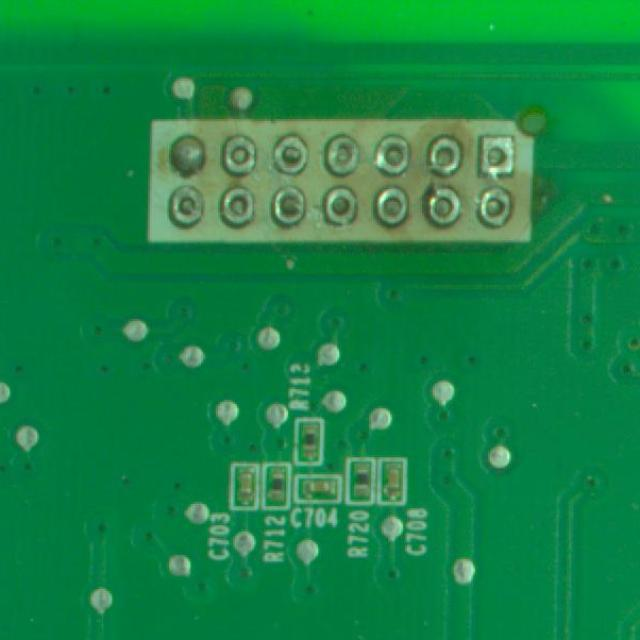low_solder: (425, 186, 461, 226), (480, 135, 514, 177), (325, 135, 359, 176), (222, 135, 256, 176), (170, 184, 202, 227), (375, 135, 409, 175), (223, 183, 256, 224), (274, 135, 308, 174), (478, 187, 511, 227), (429, 135, 461, 176), (380, 185, 407, 226), (328, 188, 356, 224), (278, 183, 301, 224)
